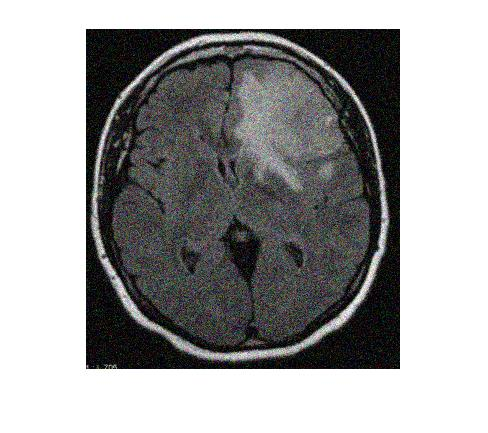Brain_Cancer: (231, 66, 338, 191)
